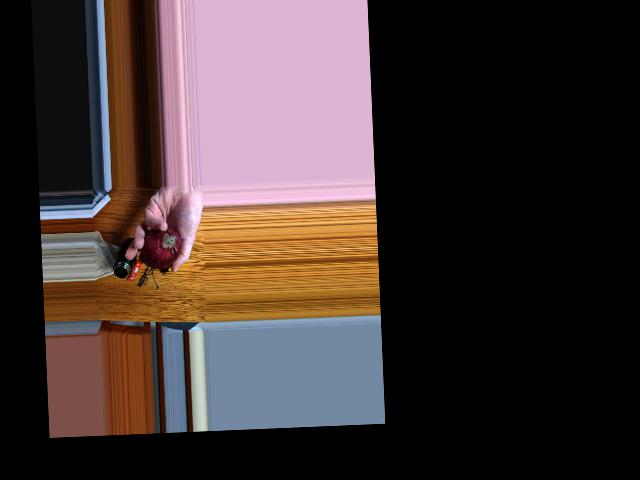onion: (139, 221, 183, 270)
